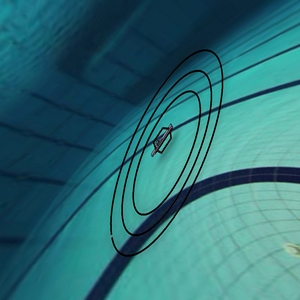circle: (89, 31, 237, 261)
submarine: (135, 116, 178, 161)
